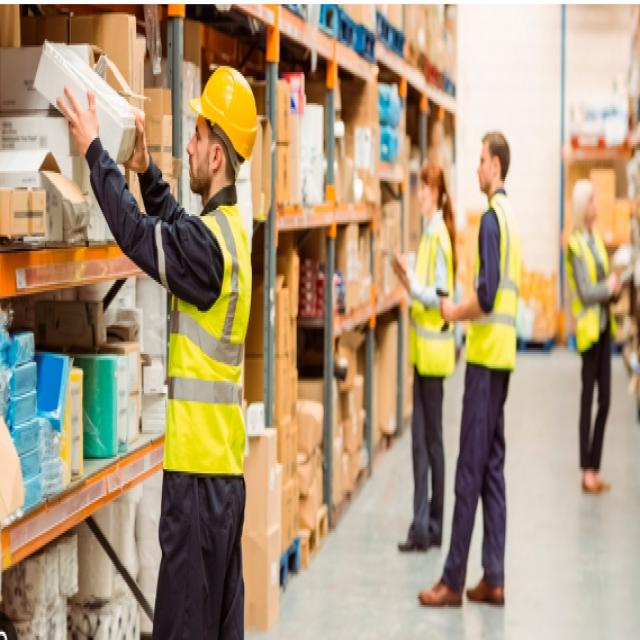hard_hat: (190, 63, 258, 194)
vest: (160, 200, 253, 479), (463, 194, 520, 370), (407, 216, 458, 379), (564, 230, 618, 355)
